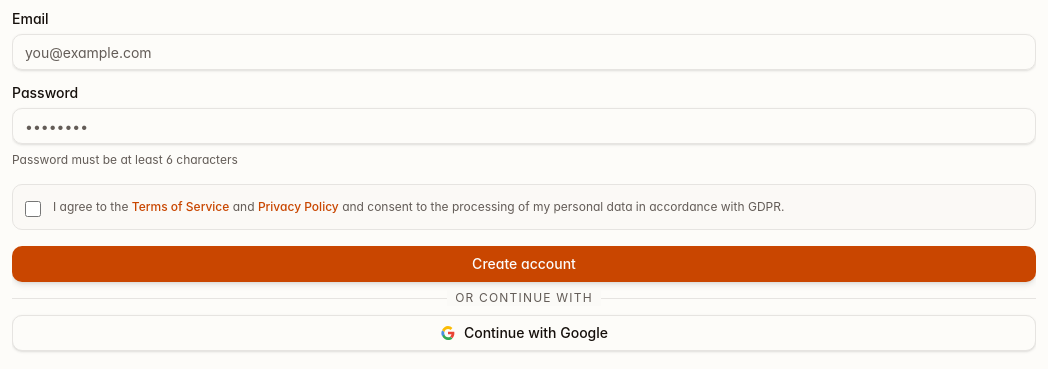
<AuthForm mode="signup" /> consent › shows the callout instead of signing in when Google is clicked without consent
This screenshot has width=1048, height=369.
Click the button "Continue with Google" at x=524, y=333, box [12, 315, 1036, 351]
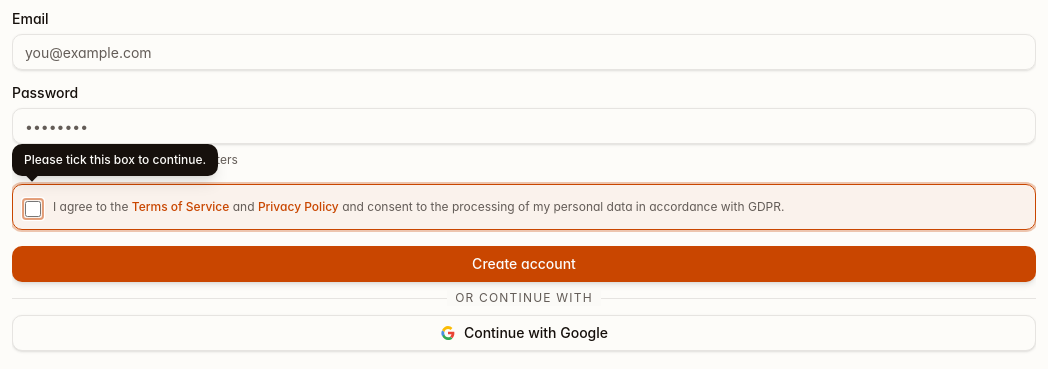
Expected: the message shows "tick this box", [24, 152, 206, 167]
